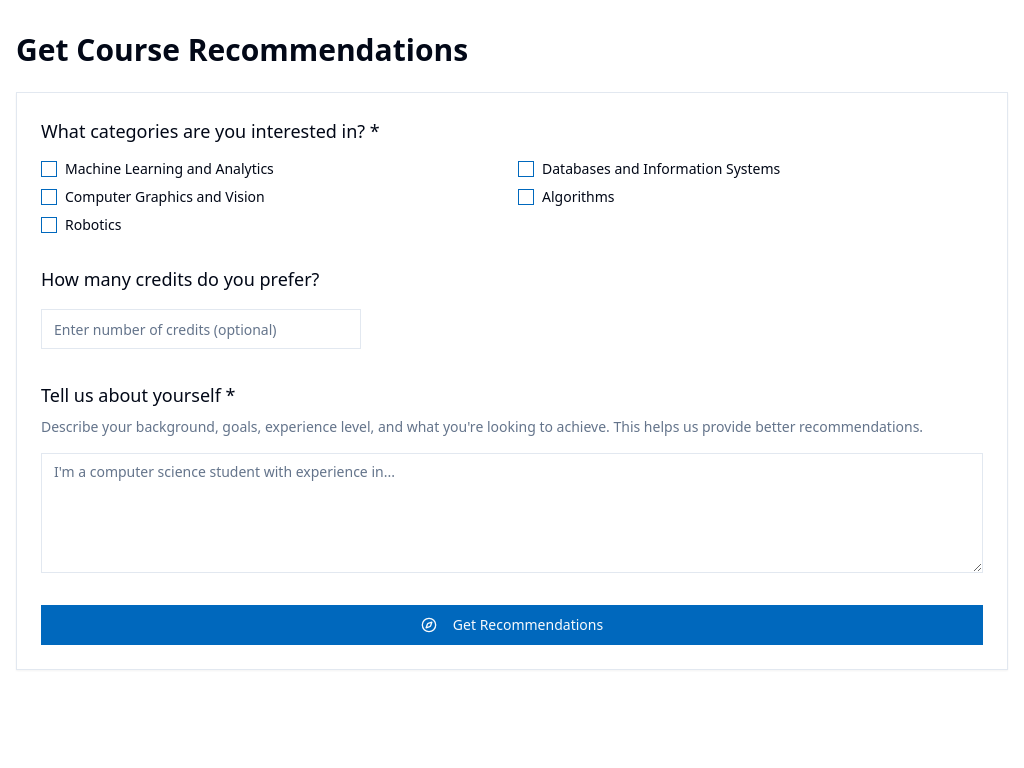
Test: Recommend Page › Recommendations Flow › successfully submits form and shows recommendations
This screenshot has width=1024, height=768.
Fill out form
Click the checkbox named "Machine Learning and Analytics" next to "Machine Learning and Analytics" at [49, 169], box left=41, top=161, right=57, bottom=177
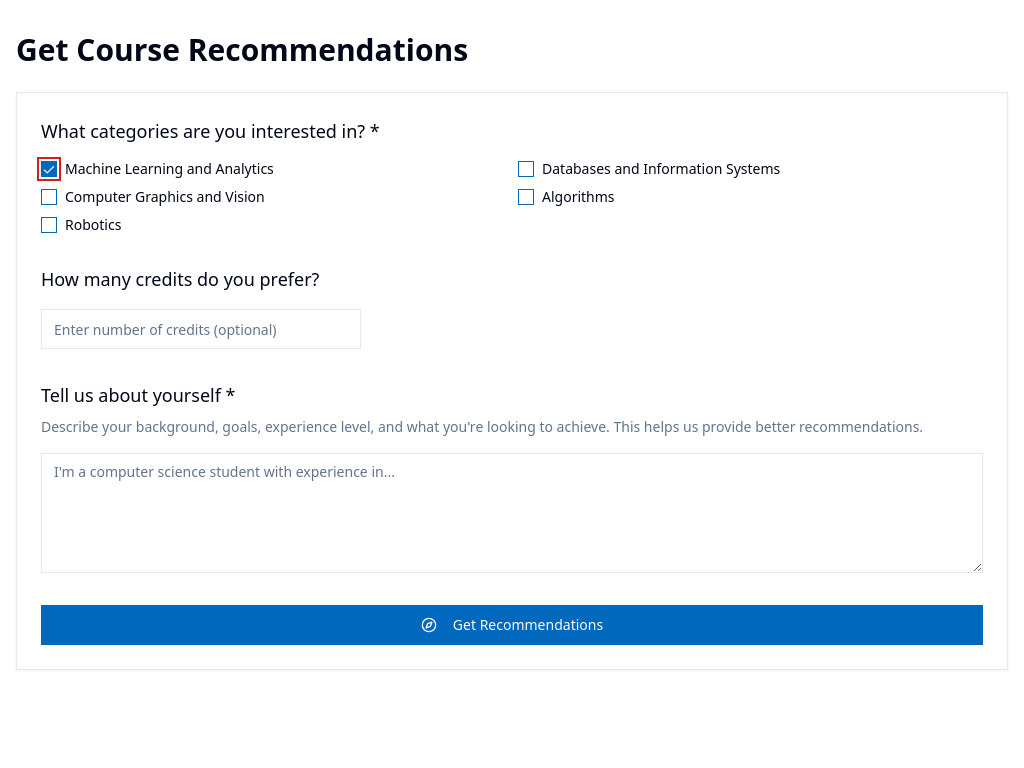
Type "6" into the number field with placeholder "Enter number of credits (optional)" at [201, 329], box left=41, top=309, right=361, bottom=349
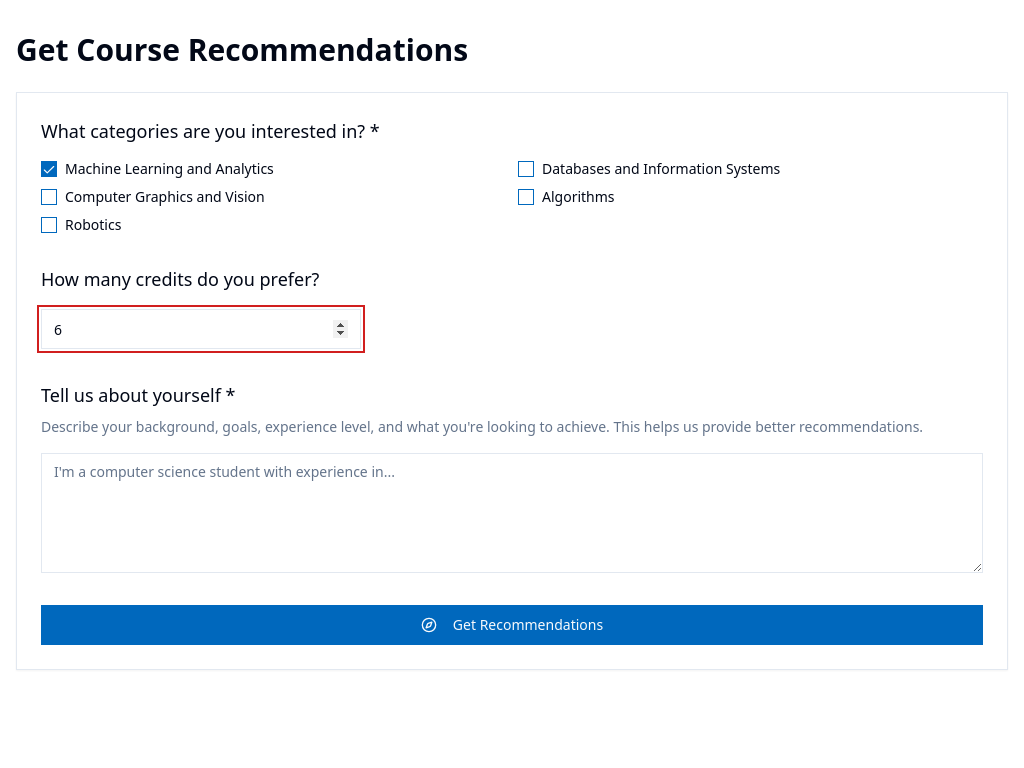
Type "I want to learn about machine learning" into the text box with placeholder "I'm a computer science student with experience in..." at [512, 513], box left=41, top=453, right=983, bottom=573
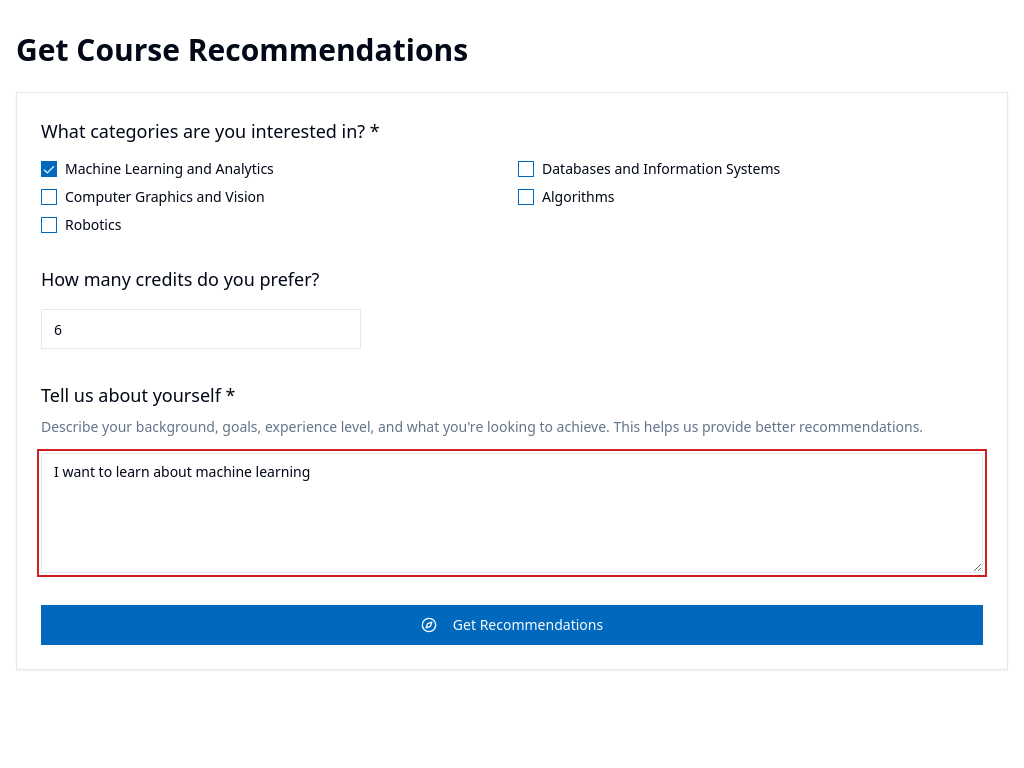
Submit form
Click the button "Get Recommendations" at [512, 625], box left=41, top=605, right=983, bottom=645
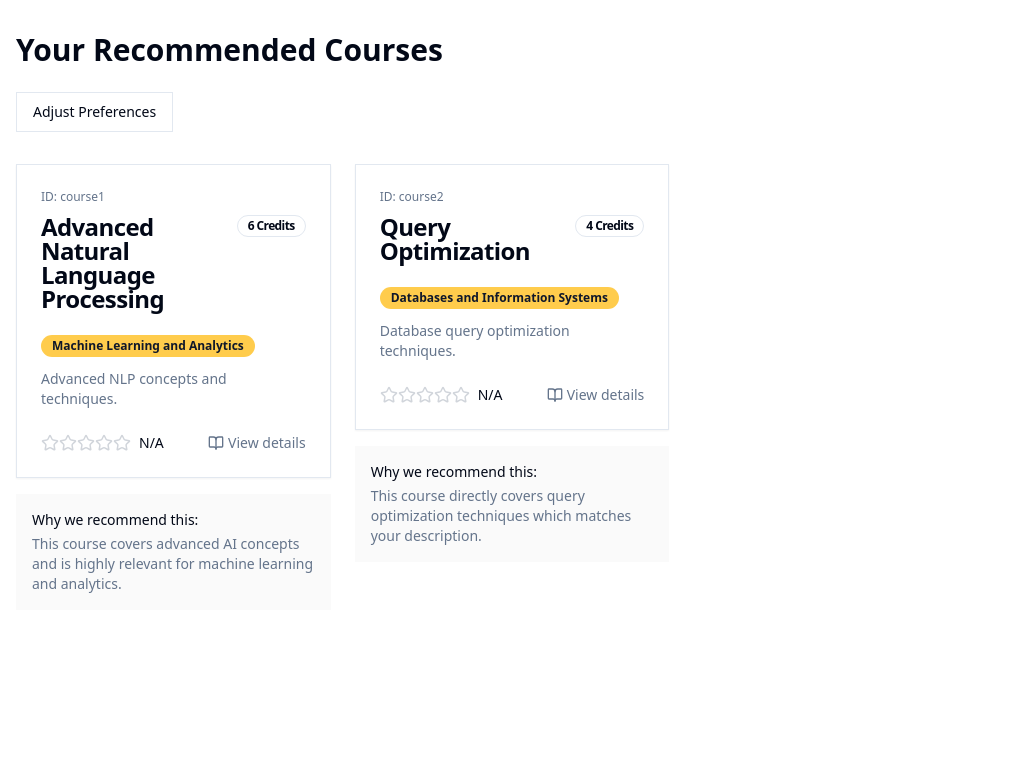
Check: the heading "Your Recommended Courses" is shown, box left=16, top=29, right=443, bottom=70
Check: the text "Advanced Natural Language Processing" is shown, box left=41, top=210, right=164, bottom=315
Check: the text "Query Optimization" is shown, box left=380, top=210, right=530, bottom=267
